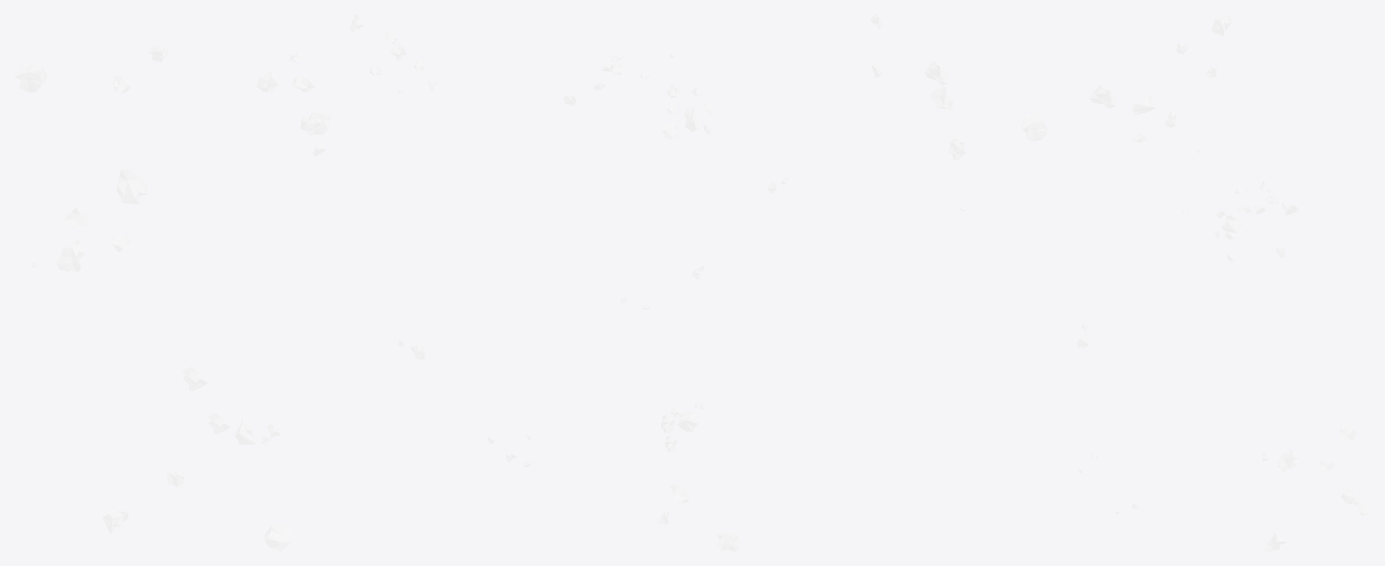
Rendered from Dust_Spart_CokeBane2.glb.
3 views of the same model, side by side, from view 1: azimuth 30°, elevation 25°; view 2: azimuth 150°, elevation 25°; view 3: azimuth 270°, elevation 25° (orthographic). The views are drawn at different scales.
Parts seen in each view (by area): view 1: Stovgruppe1; view 2: Stovgruppe1; view 3: Stovgruppe1.
Part boxes in pixels (x1,y1,x2,y2): Stovgruppe1: (14,14,534,551); Stovgruppe1: (563,14,1047,551); Stovgruppe1: (1076,14,1370,551).
Bounding box in the file's own units: 7.4 × 8.4 × 5.05.
Materials: 1 (1 with a texture image).
